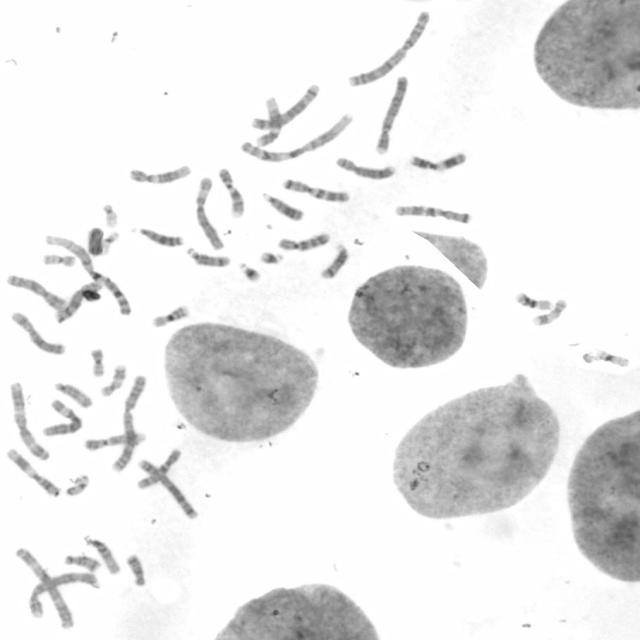A1: (40, 231, 134, 316), (236, 109, 354, 163)
A2: (344, 7, 432, 89), (109, 371, 149, 474)
A3: (11, 545, 76, 630), (5, 380, 51, 462)
B4: (26, 569, 101, 618), (372, 72, 410, 156)
B5: (136, 457, 198, 519), (248, 81, 321, 131)
C10: (134, 445, 184, 490), (276, 229, 332, 252)
C11: (2, 446, 62, 498), (406, 148, 468, 174)
C12: (252, 93, 284, 148), (126, 161, 192, 185)
C6: (192, 174, 226, 252), (39, 396, 84, 437)
C7: (280, 174, 352, 203), (392, 202, 474, 226)
C8: (51, 277, 105, 324), (332, 154, 398, 181)
C9: (214, 166, 247, 218), (81, 429, 148, 452)
D13: (258, 188, 306, 222), (133, 224, 185, 248)
D14: (317, 240, 350, 280), (184, 244, 232, 268)
D15: (81, 534, 122, 575), (51, 379, 95, 409)
E16: (149, 302, 191, 328), (512, 288, 554, 311)
E17: (529, 296, 568, 327), (98, 360, 128, 398)
E18: (124, 551, 148, 588), (61, 552, 101, 573)
F19: (591, 346, 632, 368), (101, 230, 120, 256)
F20: (86, 344, 107, 378), (39, 250, 77, 268)
G21: (237, 259, 263, 283), (256, 248, 285, 265)
G22: (63, 472, 91, 497), (99, 201, 119, 228)
X: (8, 308, 68, 356), (3, 271, 67, 311)
Y: (84, 225, 107, 256)
